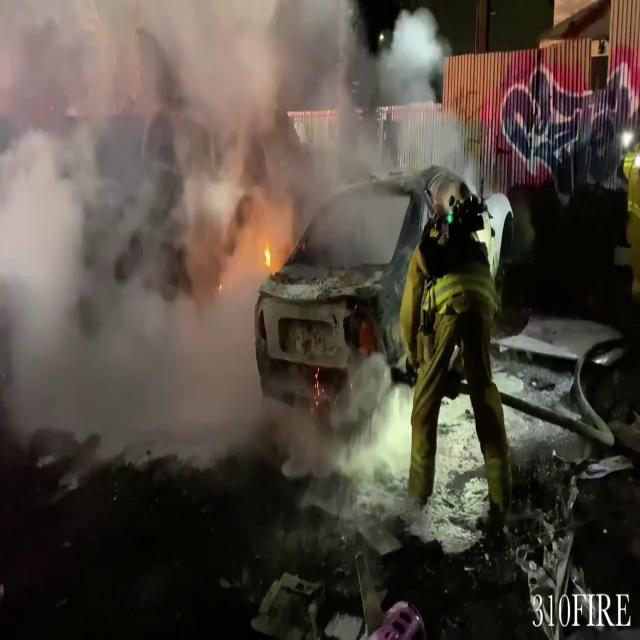Smoke: (0, 1, 355, 487)
